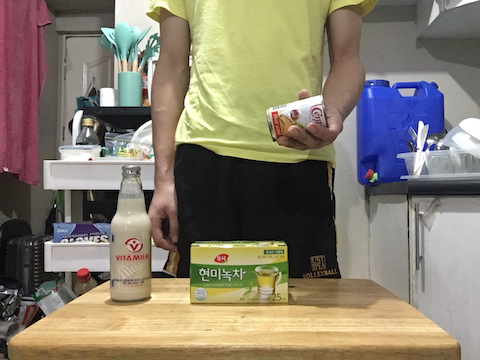bottle: (104, 161, 158, 306)
box: (184, 236, 293, 308)
can: (262, 89, 332, 146)
grab: (275, 118, 339, 153)
